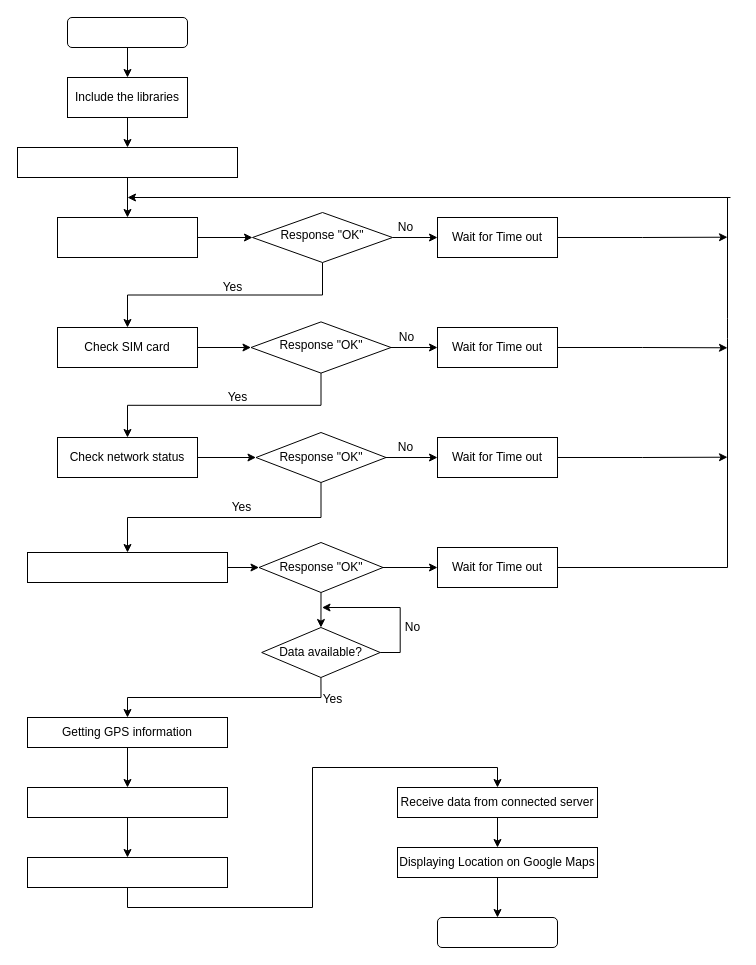
Image size: 756x965. Some labels were removed from this diagram. Each missing label, with the box of its shape:
Define: Rx, Tx, baudrate of modulesim: (16, 146, 238, 178)
End: (436, 916, 558, 948)
Put data in formatted string: (26, 786, 228, 818)
Send AT command: (56, 216, 198, 258)
Send data to connected server: (26, 856, 228, 888)
Set Access Point Network (APN): (26, 552, 228, 582)
Start: (66, 16, 188, 48)
